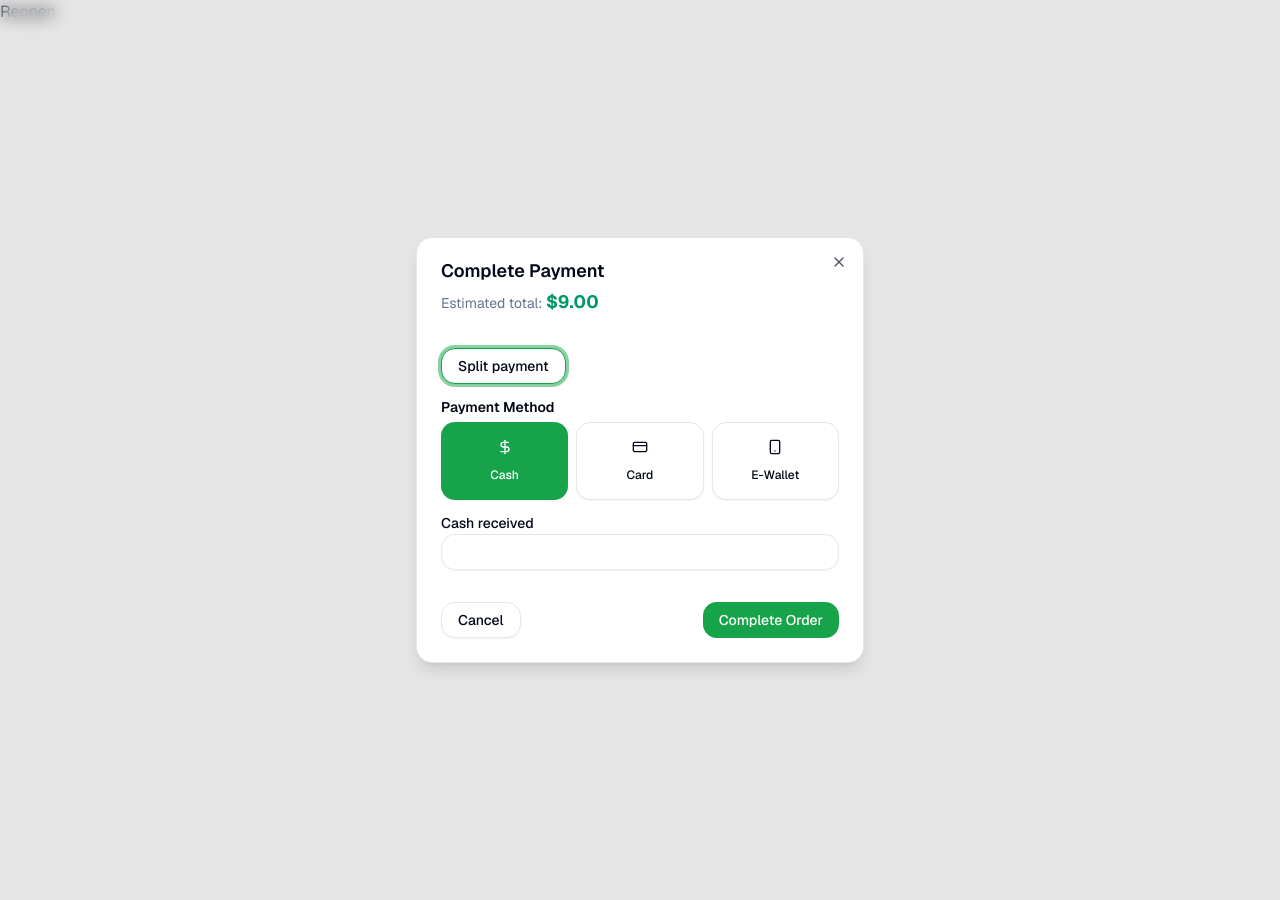
Test: PaymentDialog — cash change/short › change appears the instant received crosses the amount due, not only when far over
Still short by 8: no "Change" line yet.
In the field labelled "Cash received": (640, 552) [441,534,839,570], type "1"
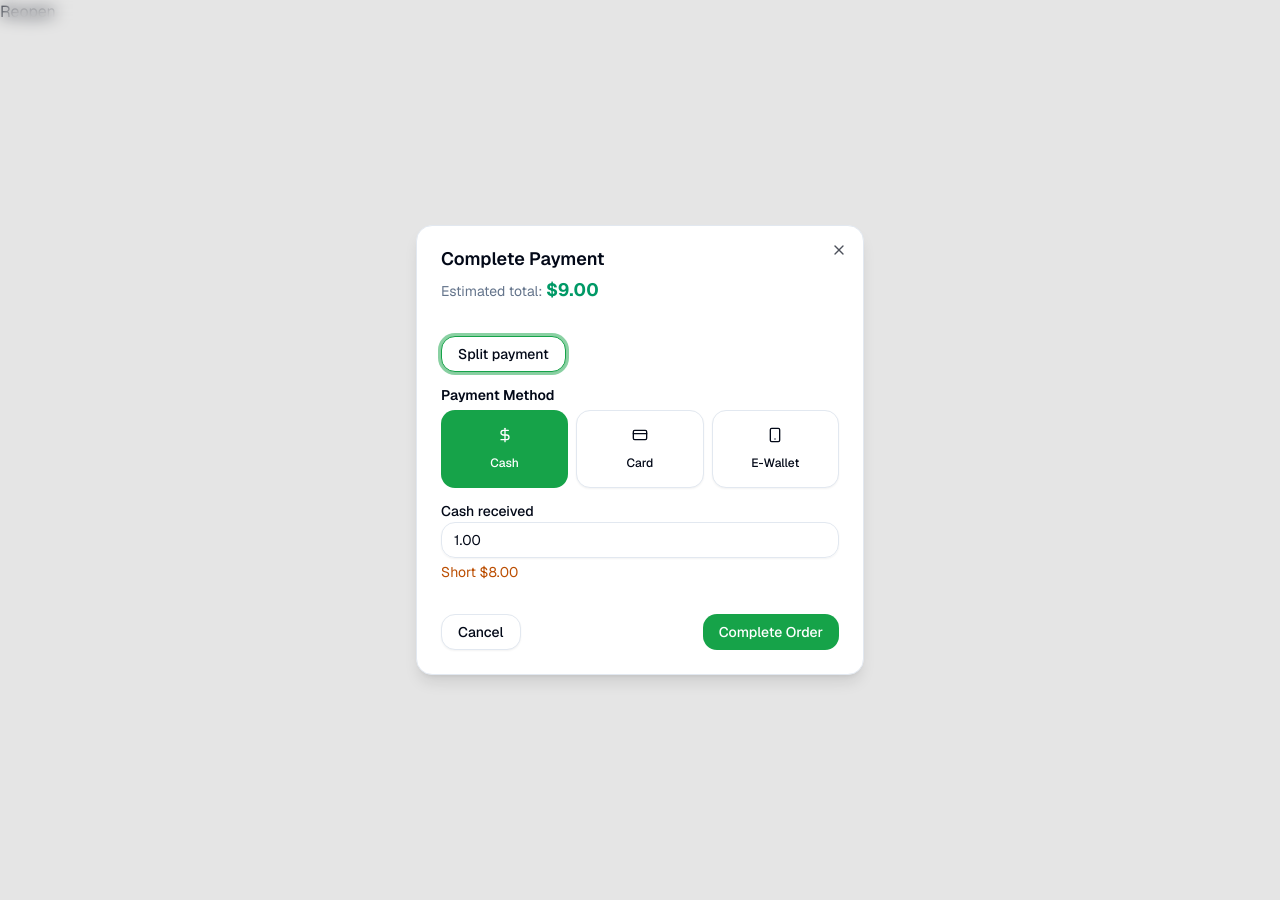
Expected: the text "Change:" is not shown
One more digit crosses the due amount by exactly $1 — change must show right away.
Replace the text in the field labelled "Cash received" with "10": (640, 540) [441,522,839,558]
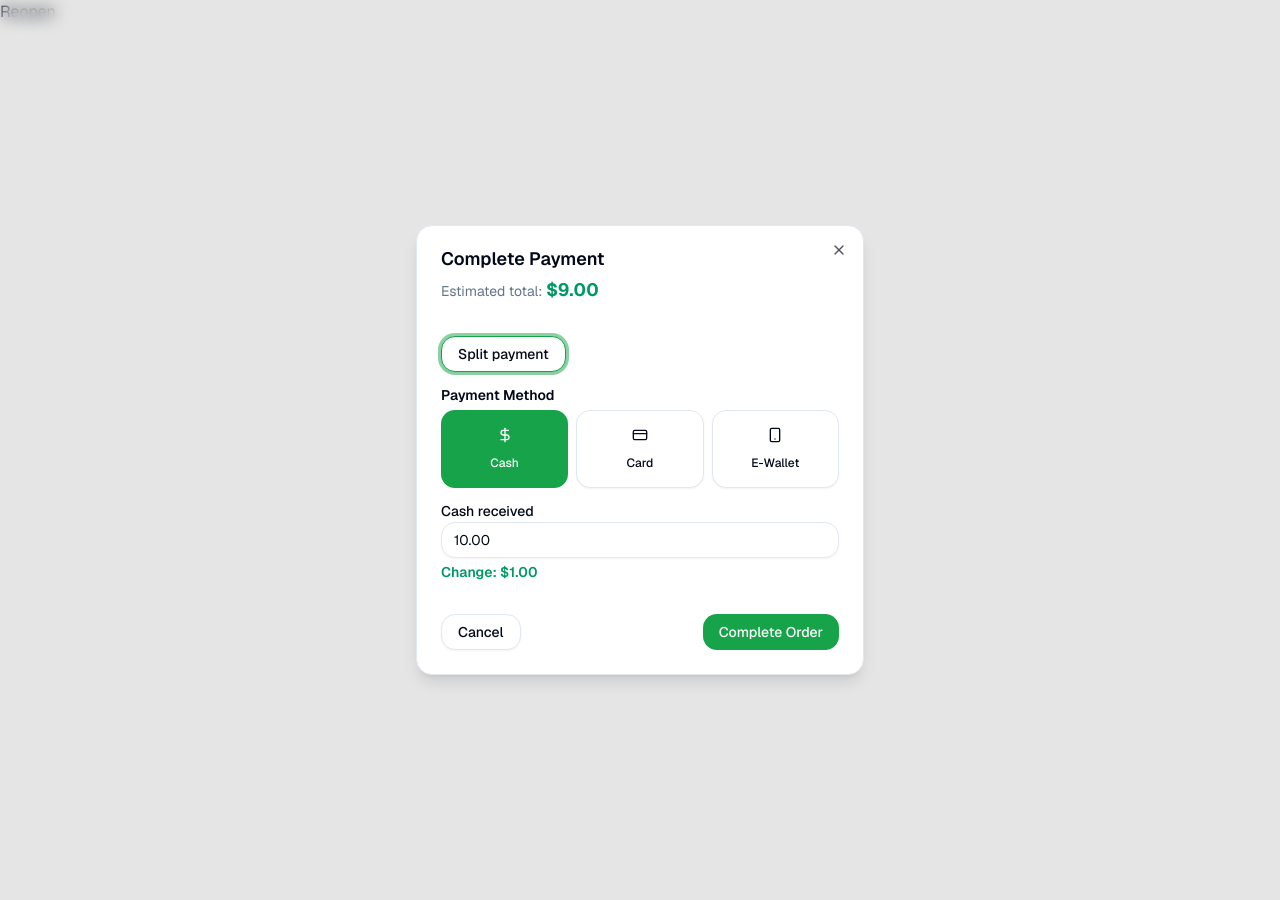
Result: the text "Change: $1.00" is shown at [441,563,538,581]
